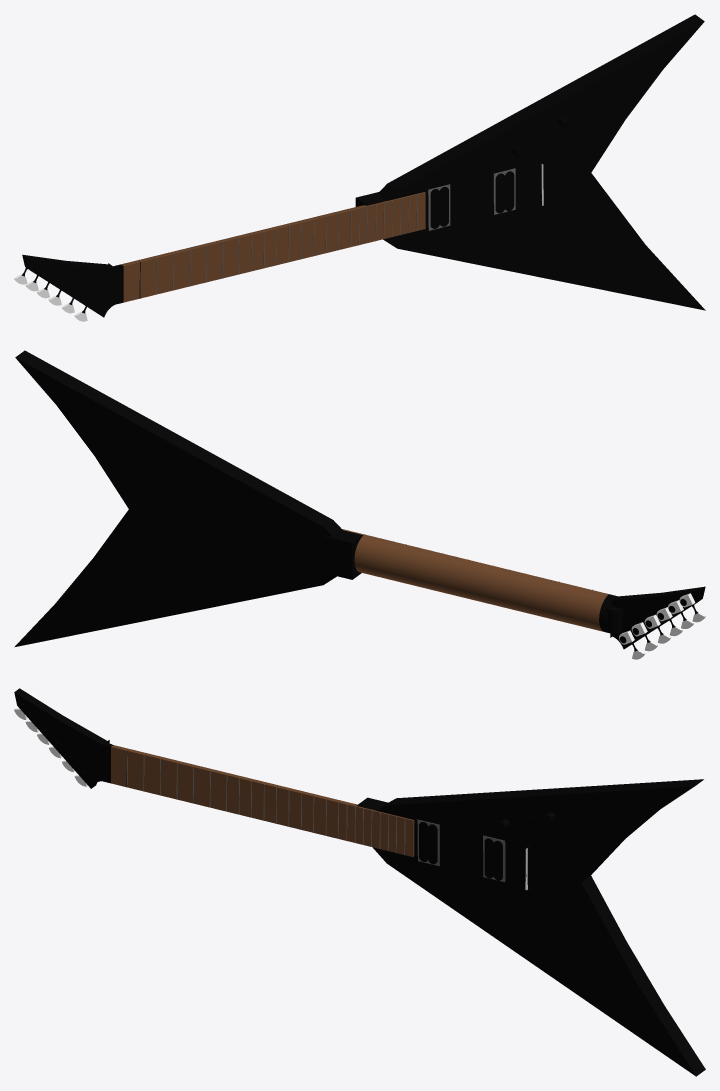
3 views of the same model, one above another, from view 1: azimuth 30°, elevation 25°; view 2: azimuth 150°, elevation 25°; view 3: azimuth 330°, elevation 25° (orthographic).
Parts seen in each view (by area): view 1: Model_Space-62, Model_Space-31, Model_Space-66, Model_Space-64, Model_Space, Model_Space-1, Model_Space-3, Model_Space-5, Model_Space-6, Model_Space-2, Model_Space-4, Model_Space-14 (+4 smaller); view 2: Model_Space-62, Model_Space-31, Model_Space-19, Model_Space, Model_Space-2, Model_Space-5, Model_Space-3, Model_Space-4, Model_Space-1, Model_Space-6, Model_Space-14, Model_Space-11 (+7 smaller); view 3: Model_Space-62, Model_Space-31, Model_Space-64, Model_Space-66, Model_Space-1, Model_Space-6, Model_Space-3, Model_Space-4, Model_Space-5, Model_Space-2, Model_Space.
Part boxes in pixels (bbox=[...]): Model_Space-62: bbox=[378, 14, 705, 310]; Model_Space-31: bbox=[22, 254, 115, 316]; Model_Space-66: bbox=[495, 171, 514, 213]; Model_Space-64: bbox=[430, 187, 448, 228]; Model_Space: bbox=[120, 260, 139, 302]; Model_Space-1: bbox=[137, 256, 156, 298]; Model_Space-3: bbox=[170, 248, 189, 290]; Model_Space-5: bbox=[202, 240, 222, 282]; Model_Space-6: bbox=[219, 236, 239, 278]; Model_Space-2: bbox=[153, 252, 172, 294]; Model_Space-4: bbox=[186, 244, 205, 286]; Model_Space-14: bbox=[323, 212, 338, 252]; Model_Space-62: bbox=[14, 350, 342, 647]; Model_Space-31: bbox=[612, 586, 705, 648]; Model_Space-19: bbox=[325, 530, 362, 579]; Model_Space: bbox=[582, 590, 608, 631]; Model_Space-2: bbox=[549, 582, 575, 623]; Model_Space-5: bbox=[499, 570, 525, 611]; Model_Space-3: bbox=[532, 578, 558, 619]; Model_Space-4: bbox=[516, 574, 542, 615]; Model_Space-1: bbox=[566, 586, 592, 627]; Model_Space-6: bbox=[483, 566, 509, 607]; Model_Space-14: bbox=[383, 541, 405, 582]; Model_Space-11: bbox=[421, 550, 442, 591]; Model_Space-62: bbox=[373, 779, 705, 1076]; Model_Space-31: bbox=[14, 688, 107, 788]; Model_Space-64: bbox=[419, 822, 437, 864]; Model_Space-66: bbox=[484, 838, 502, 880]; Model_Space-1: bbox=[127, 749, 147, 790]; Model_Space-6: bbox=[210, 769, 229, 811]; Model_Space-3: bbox=[160, 757, 180, 799]; Model_Space-4: bbox=[177, 761, 196, 803]; Model_Space-5: bbox=[193, 765, 213, 807]; Model_Space-2: bbox=[144, 753, 164, 795]; Model_Space: bbox=[111, 745, 131, 786].
Size of the model in its own units: 1140 by 460 by 43.68.
